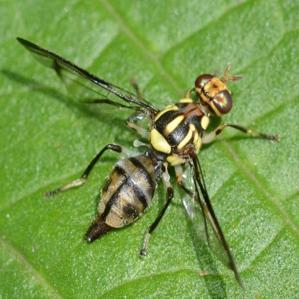melon fly: (19, 14, 266, 281)
